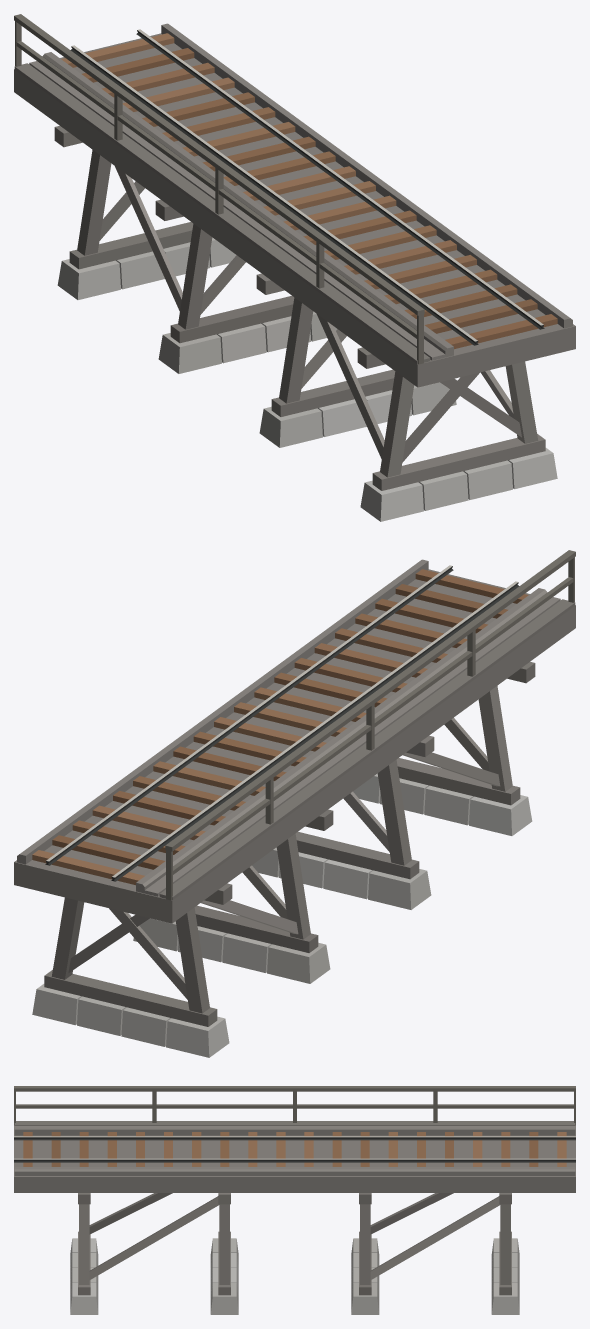
The model's file is timber-trestle-bridge-c3cd88.glb.
The picture shows the model from 3 angles, top to bottom: view 1: azimuth 30°, elevation 25°; view 2: azimuth 150°, elevation 25°; view 3: azimuth 270°, elevation 25°; orthographic projection. The views are drawn at different scales.
Visible parts, largest first — view 1: timber-trestle-bridge-body; view 2: timber-trestle-bridge-body; view 3: timber-trestle-bridge-body.
Boxes of the visible parts, x1,y1,x2,y2 form: timber-trestle-bridge-body: (14, 14, 575, 521); timber-trestle-bridge-body: (14, 550, 575, 1057); timber-trestle-bridge-body: (14, 1086, 575, 1314).
Bounding box in the file's own units: 4.25 × 5.27 × 16.
